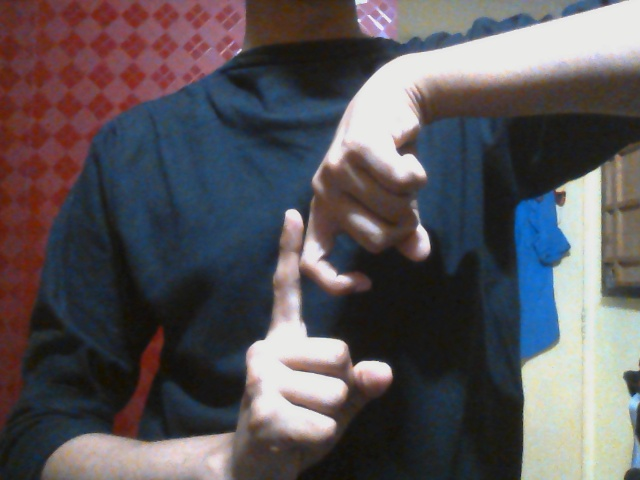K: (239, 151, 431, 467)
